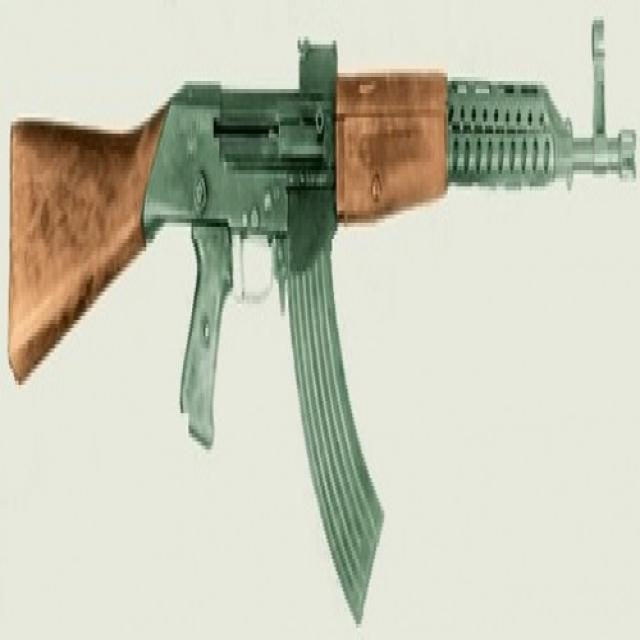rifle: (5, 9, 640, 638)
